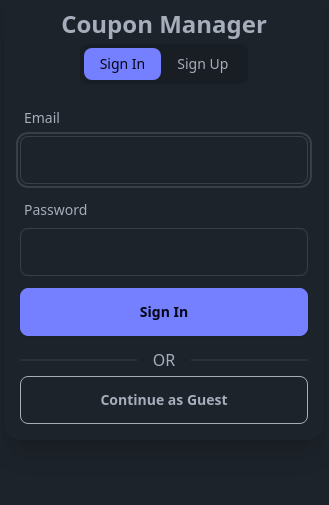
Test case: LoginForm › Form Validation - Sign In Mode › should show validation errors when submitting empty form
Click the button with test id "login-submit-button": (164, 312) 20,288 -> 308,336
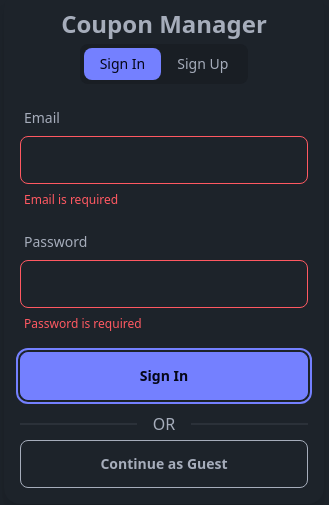
Result: the text "Email is required" is shown at 24,192 -> 118,208
Result: the text "Password is required" is shown at 24,316 -> 142,332
